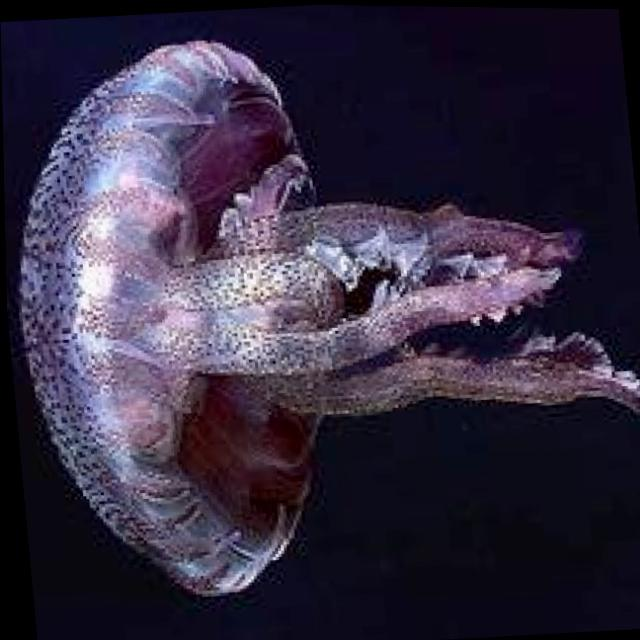Jellyfish: (0, 7, 640, 614)
